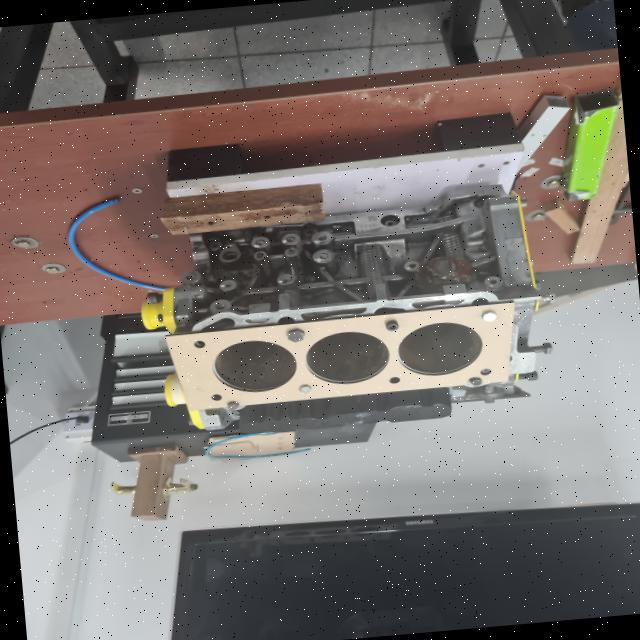tor_v1: (164, 302, 514, 410)
